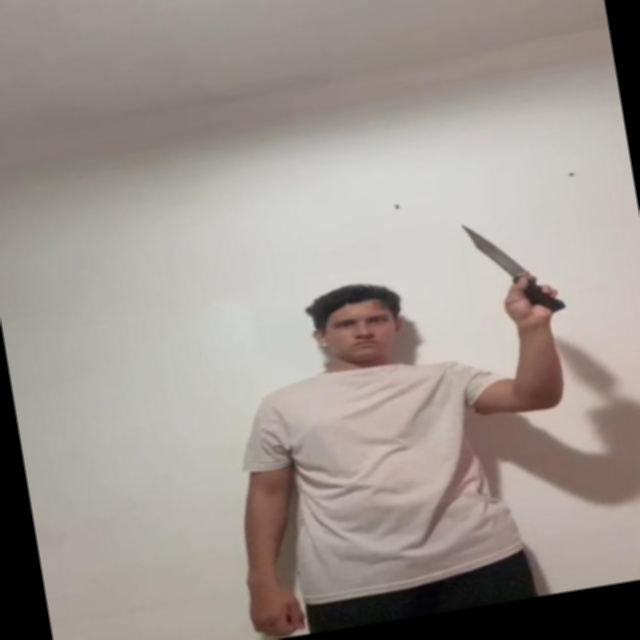Sharp-Object: (459, 218, 516, 277)
